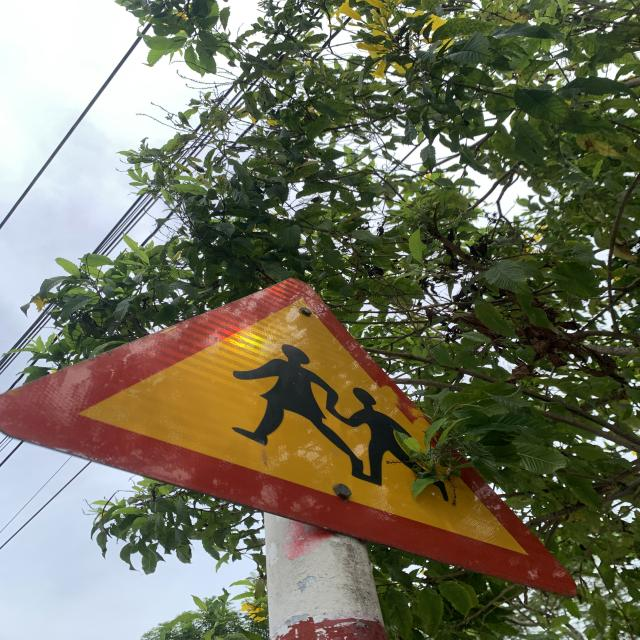Vong_Xuyen: (1, 272, 574, 603)
